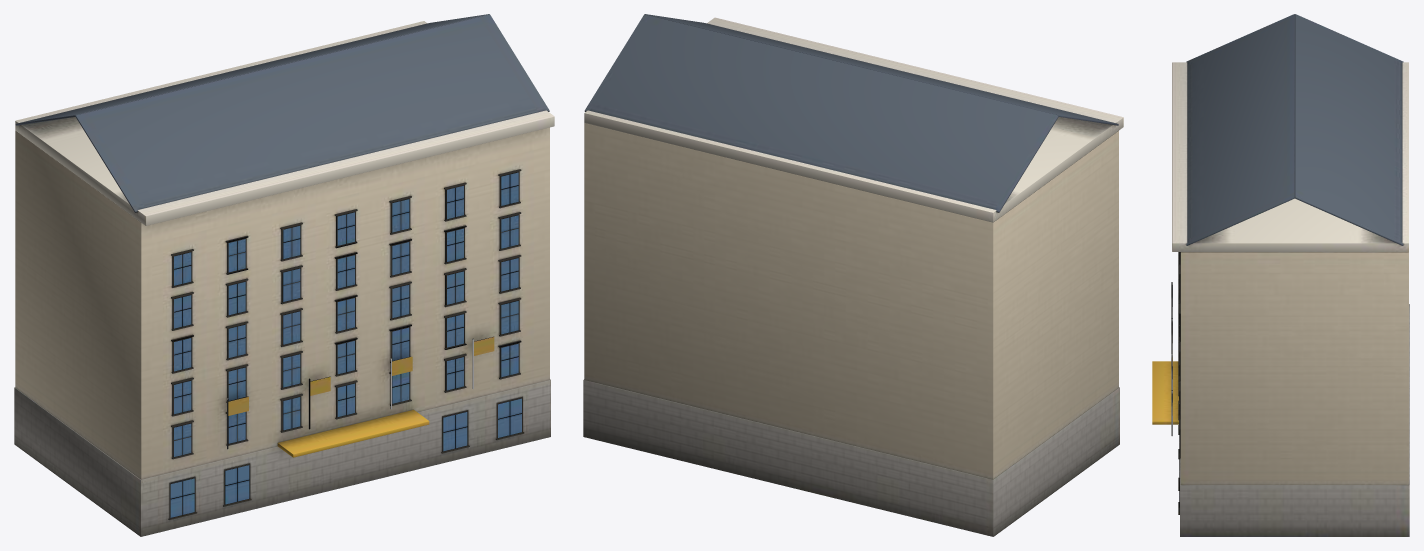
Rendered from peninsula.glb.
The picture shows the model from 3 angles, left to right: view 1: azimuth 30°, elevation 25°; view 2: azimuth 150°, elevation 25°; view 3: azimuth 270°, elevation 25°; orthographic projection. The views are drawn at different scales.
Visible parts, largest first — view 1: peninsula; view 2: peninsula; view 3: peninsula.
Boxes of the visible parts, box(x1,y1,x2,y2) form: peninsula: box(14, 14, 554, 536); peninsula: box(583, 14, 1123, 536); peninsula: box(1152, 14, 1409, 536).
Size of the model in its own units: 30.4 by 26.34 by 18.05.
Materials: 1 (1 with a texture image).
